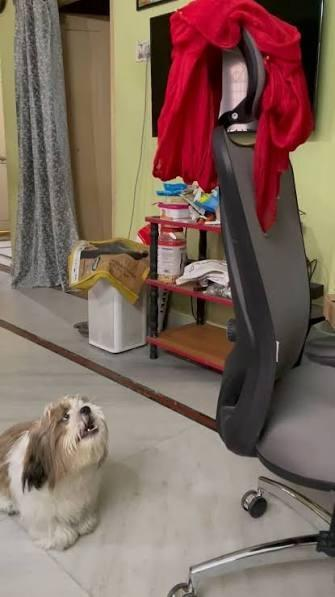adult_dog: (1, 394, 110, 552)
